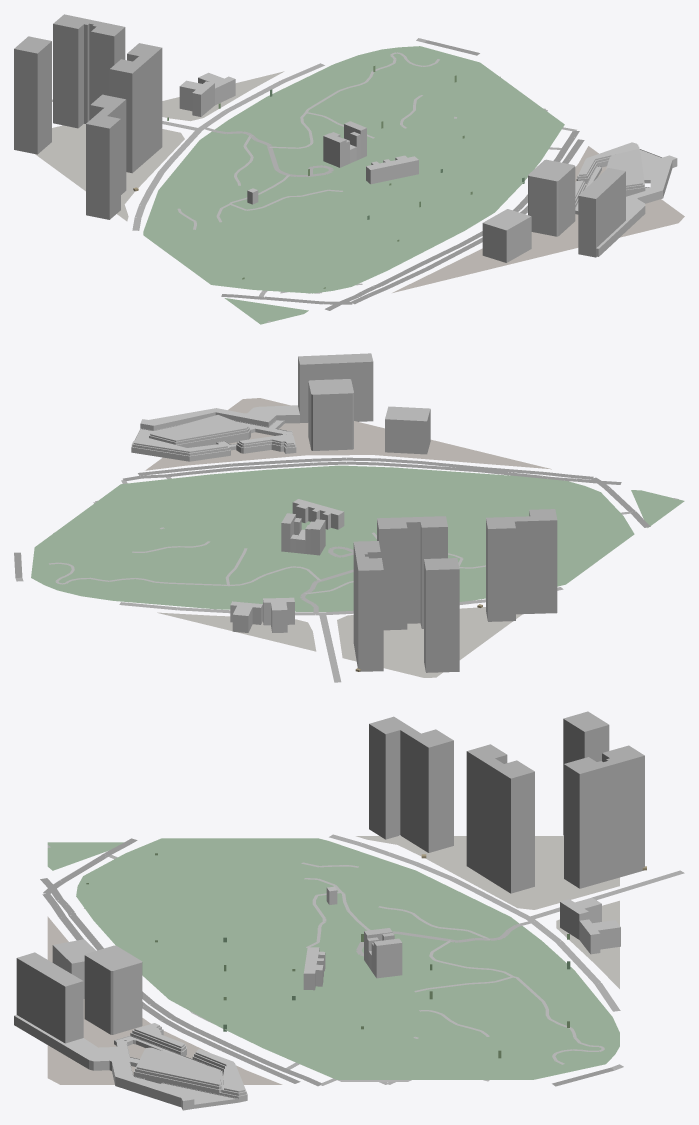
3 renders of one model, top to bottom at view 1: azimuth 30°, elevation 25°; view 2: azimuth 150°, elevation 25°; view 3: azimuth 270°, elevation 25°, orthographic. The views are drawn at different scales.
Size of the model in its own units: 582 by 121 by 586.
